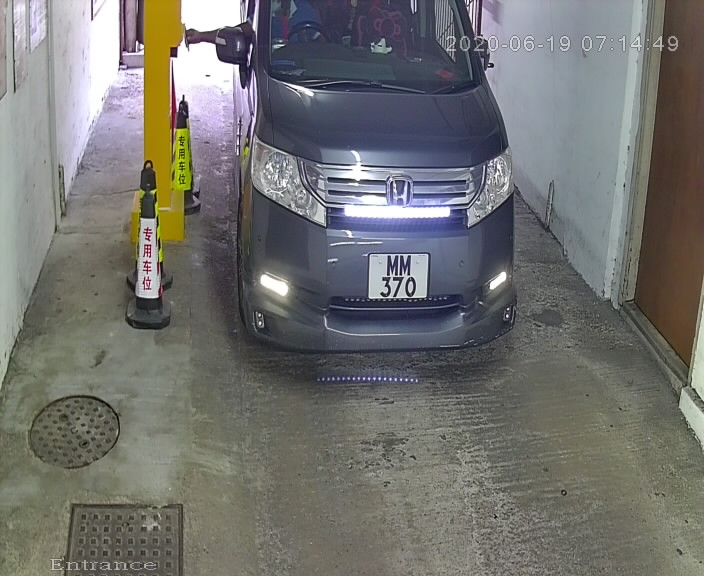privatecar: (196, 3, 521, 380)
